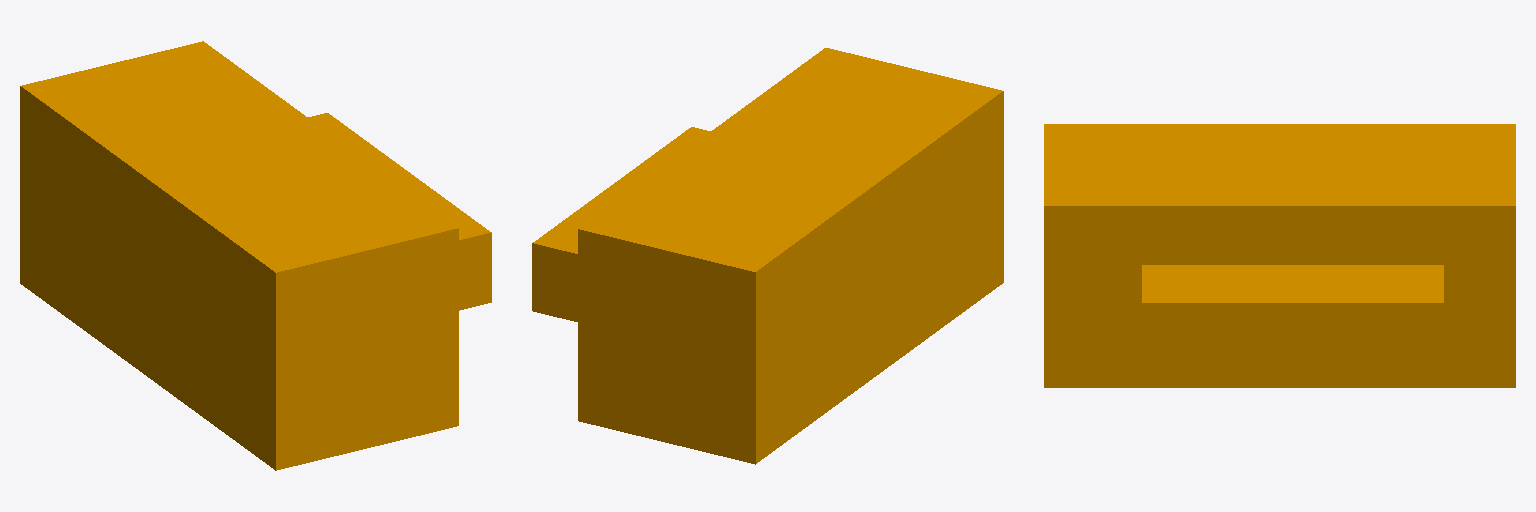
robot.urdf — RectCup.off:
<?xml version="1.0"?>
<robot name="RectCup.off">
	<link name="RectCup.off">
		<inertial>
			<!--origin xyz="0 0 0" rpy="0 0 0" /-->
			<mass value="0.5" />
			<!--inertia ixx="0.000360" ixy="0" ixz="0" iyy="0.0000615" iyz="0" izz="0.00036" /-->
		</inertial>
    		<visual>
	      		<!--origin rpy="0 0 0" xyz="0 0 0"/-->
      			<geometry>
        			<mesh filename="RectCup.off.obj"/>
      			</geometry>
         	</visual>
    		<collision>
      			<!--origin rpy="0 0 0" xyz="0 0 0"/-->
      			<geometry>
        			<mesh filename="RectCup.off.obj"/>
      			</geometry>
    		</collision>
	</link>
</robot>

--- Facts derived from the render (not from the file) ---
3 views of the same robot in one strip: view 1: azimuth 30°, elevation 25°; view 2: azimuth 150°, elevation 25°; view 3: azimuth 270°, elevation 25° (orthographic).
Robot: RectCup.off — 1 links, 0 joints (none); root link RectCup.off; default pose: every joint at zero.
Visible links, largest first — view 1: RectCup.off; view 2: RectCup.off; view 3: RectCup.off.
Boxes of the visible links, x1,y1,x2,y2 form: RectCup.off: [20, 41, 491, 470]; RectCup.off: [532, 48, 1003, 464]; RectCup.off: [1044, 124, 1515, 387].
Bounding box of the posed robot: 8.8 × 14.5 × 6.2 m (x, y, z).
Meshes: 1 distinct files referenced, 1 mesh visuals loaded (1 OBJ).